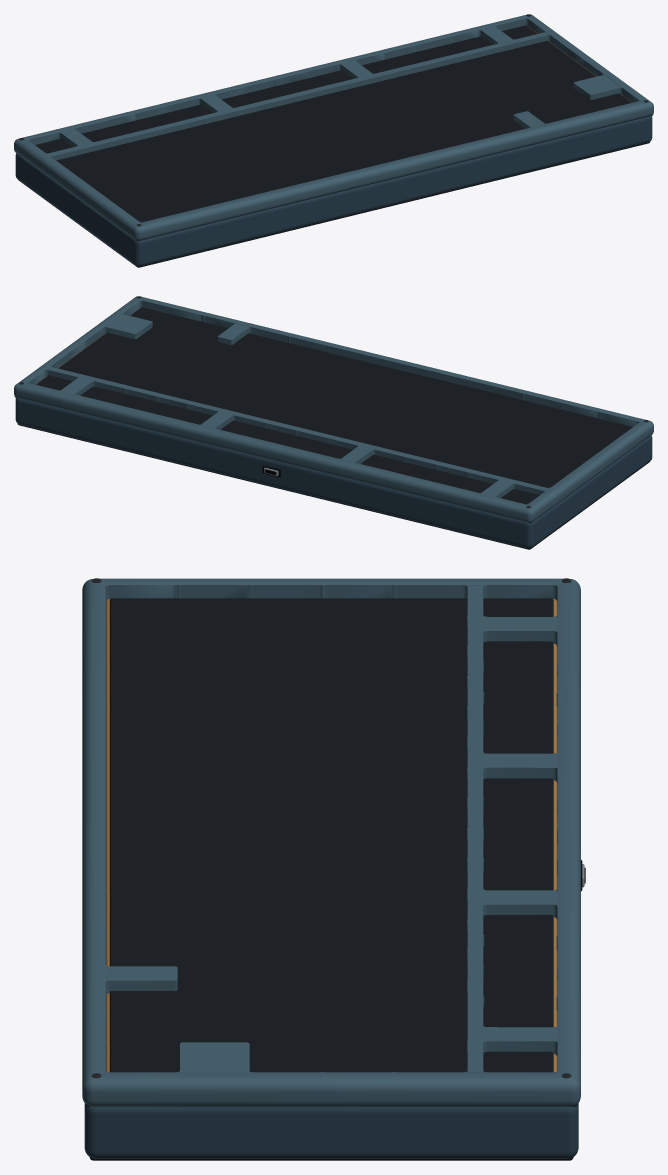
The model's file is ansi-80.glb.
3 renders of one model, top to bottom at view 1: azimuth 30°, elevation 25°; view 2: azimuth 150°, elevation 25°; view 3: azimuth 270°, elevation 25°, orthographic. The views are drawn at different scales.
Parts seen in each view (by area): view 1: KeybedShadow, TopFrame, CaseBody, BottomEdge; view 2: KeybedShadow, TopFrame, CaseBody, BottomEdge; view 3: KeybedShadow, TopFrame, CaseBody, Plate, BottomEdge.
Part boxes in pixels (bbox=[...]): KeybedShadow: bbox=[35, 25, 631, 222]; TopFrame: bbox=[14, 14, 653, 240]; CaseBody: bbox=[15, 116, 652, 266]; BottomEdge: bbox=[18, 142, 649, 267]; KeybedShadow: bbox=[36, 307, 632, 504]; TopFrame: bbox=[14, 296, 653, 522]; CaseBody: bbox=[15, 398, 652, 548]; BottomEdge: bbox=[18, 424, 649, 549]; KeybedShadow: bbox=[109, 598, 553, 1072]; TopFrame: bbox=[82, 578, 580, 1107]; CaseBody: bbox=[84, 609, 578, 1158]; Plate: bbox=[106, 599, 557, 1072]; BottomEdge: bbox=[89, 1157, 573, 1160].
Size of the model in its own units: 0.3178 by 0.0263 by 0.1333.
